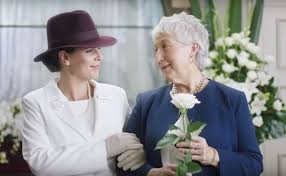white_female: (150, 21, 195, 79)
